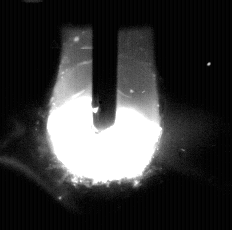arame: (92, 0, 118, 130)
poca: (46, 0, 164, 230)
